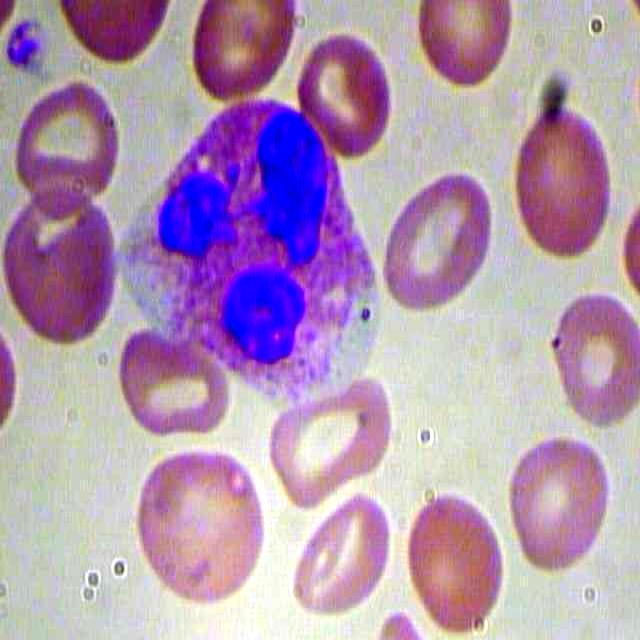RBC: (135, 441, 265, 604), (379, 157, 509, 320), (496, 99, 626, 261), (1, 185, 119, 348), (258, 375, 397, 508), (11, 69, 128, 212), (505, 429, 614, 579), (400, 484, 509, 633), (286, 487, 395, 636), (111, 321, 231, 443), (537, 291, 640, 429), (298, 26, 392, 162), (191, 1, 292, 104), (414, 1, 515, 104)
WBC: (128, 89, 410, 395)
